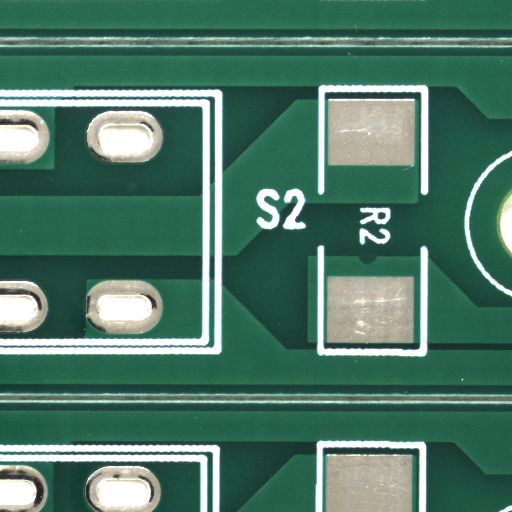Mouse_bite: (367, 258, 386, 269)
